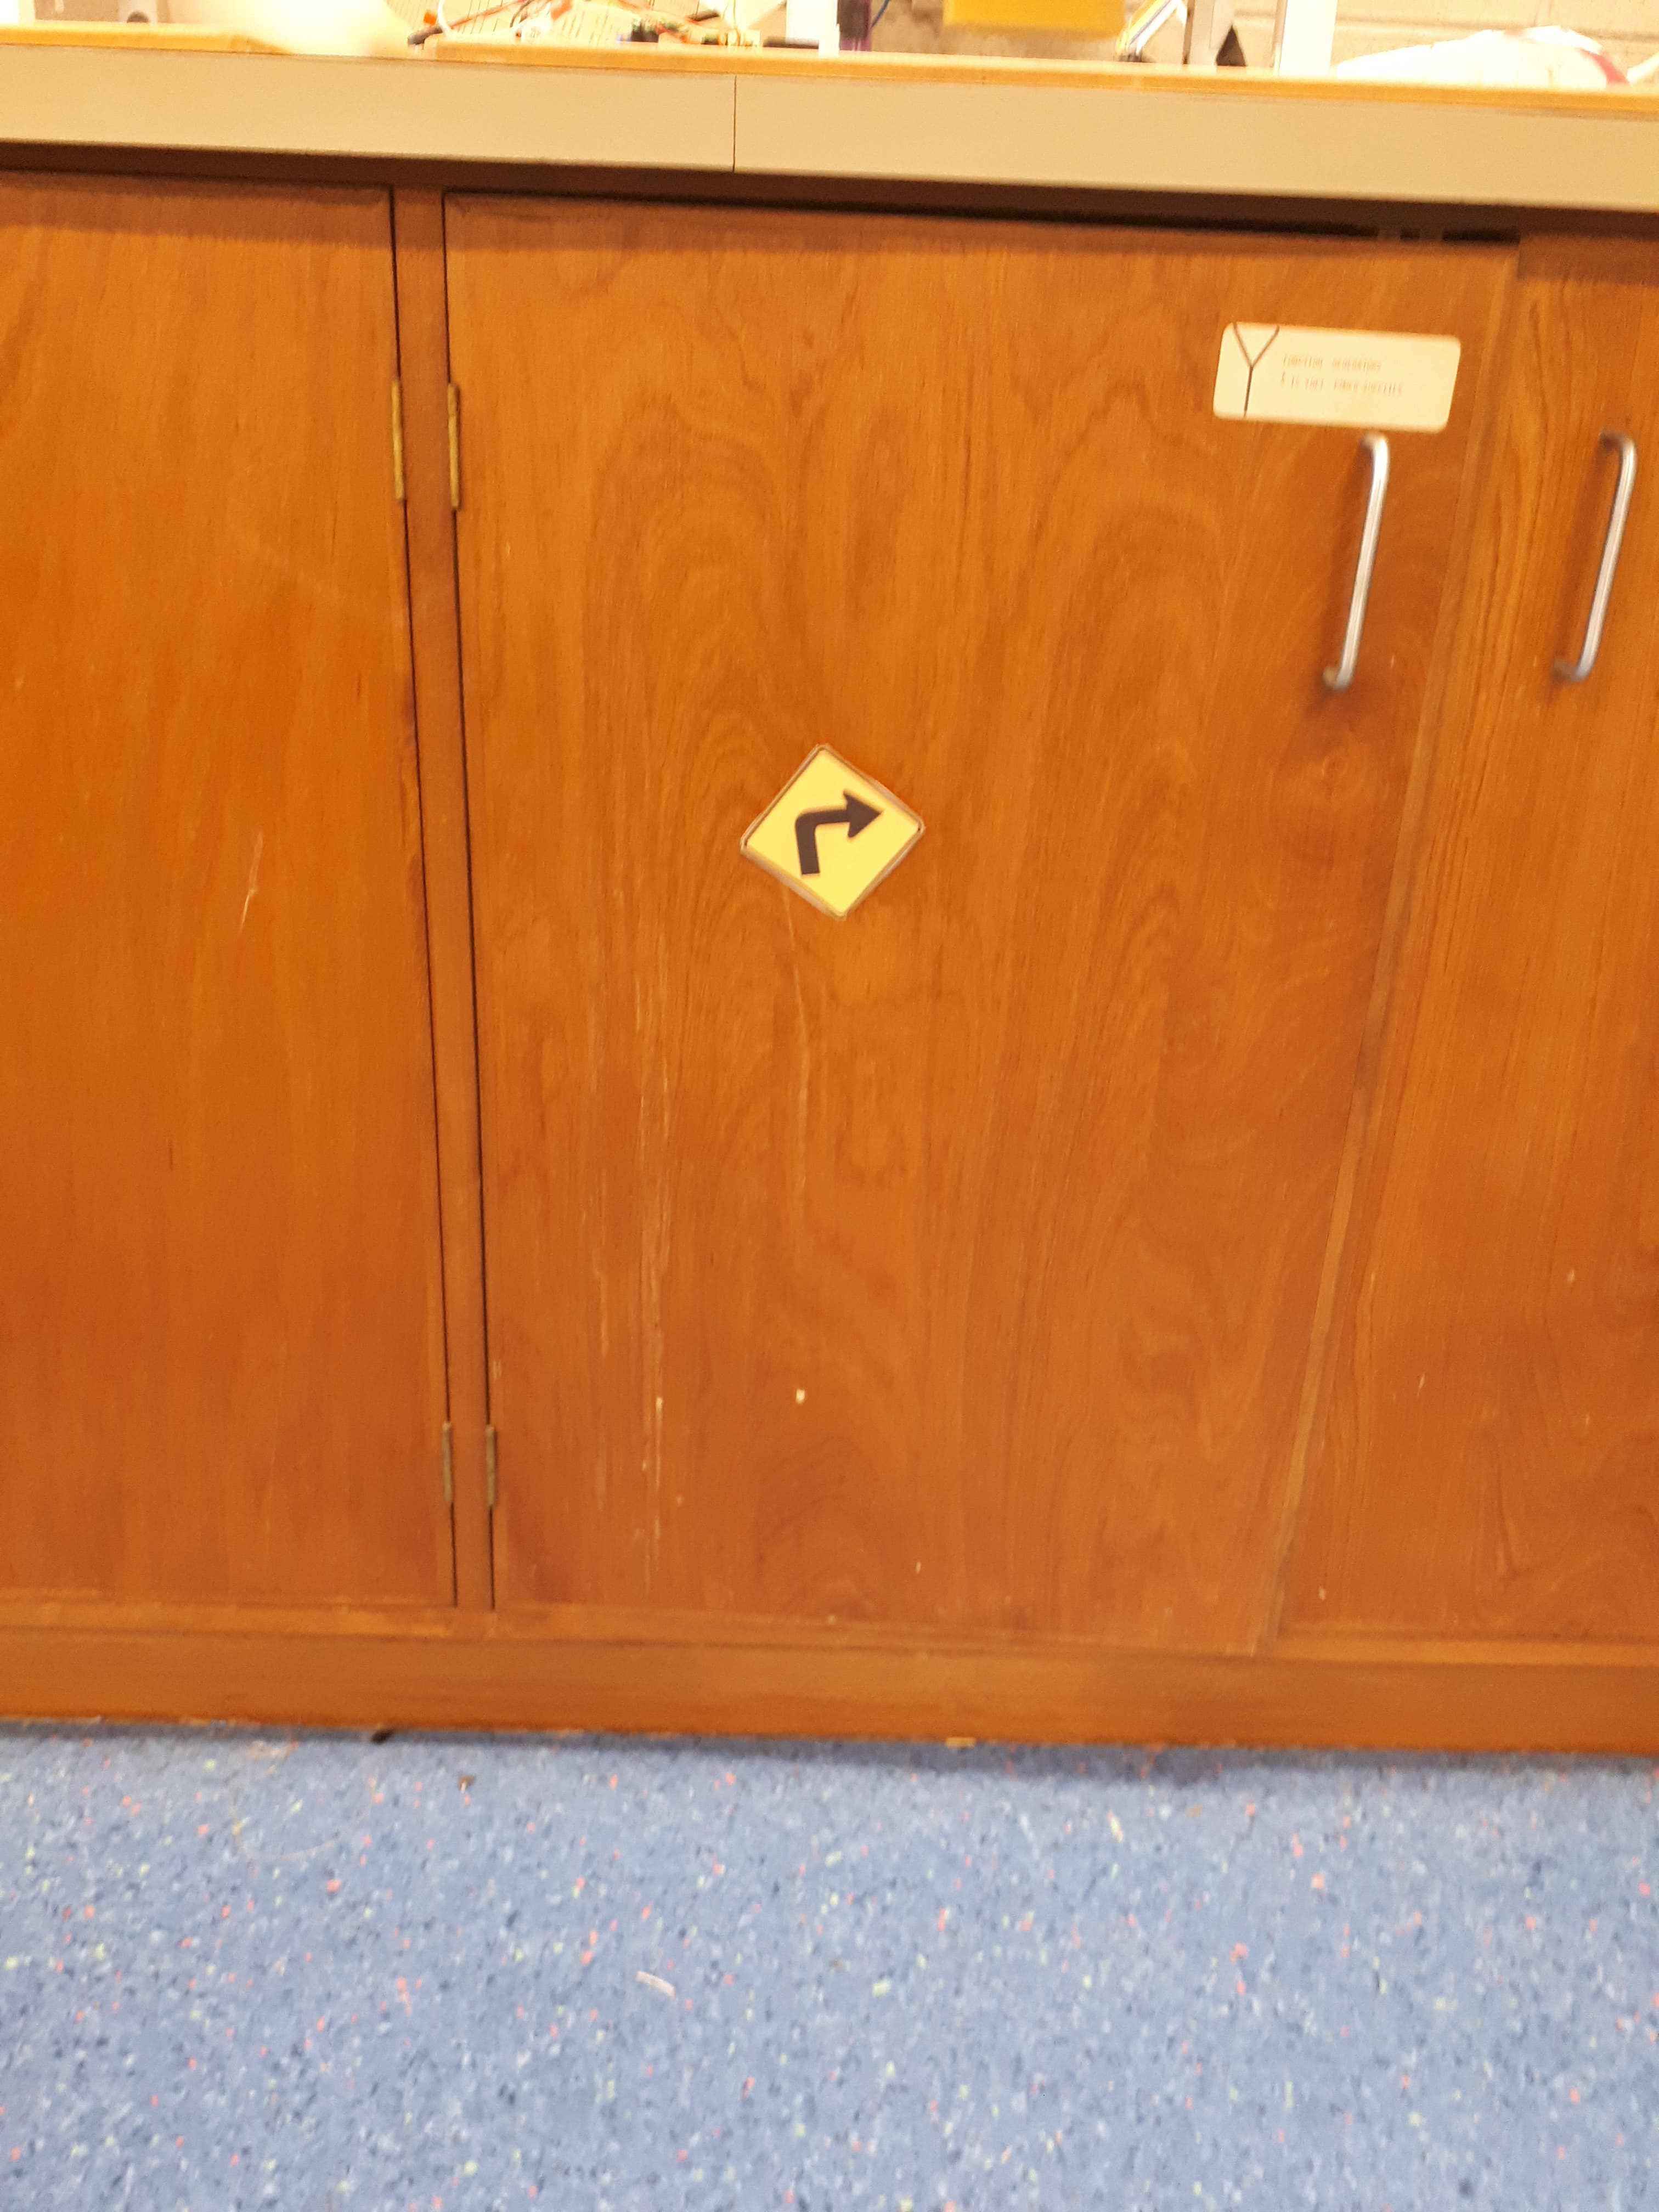right: (711, 730, 972, 948), (784, 643, 953, 866)
